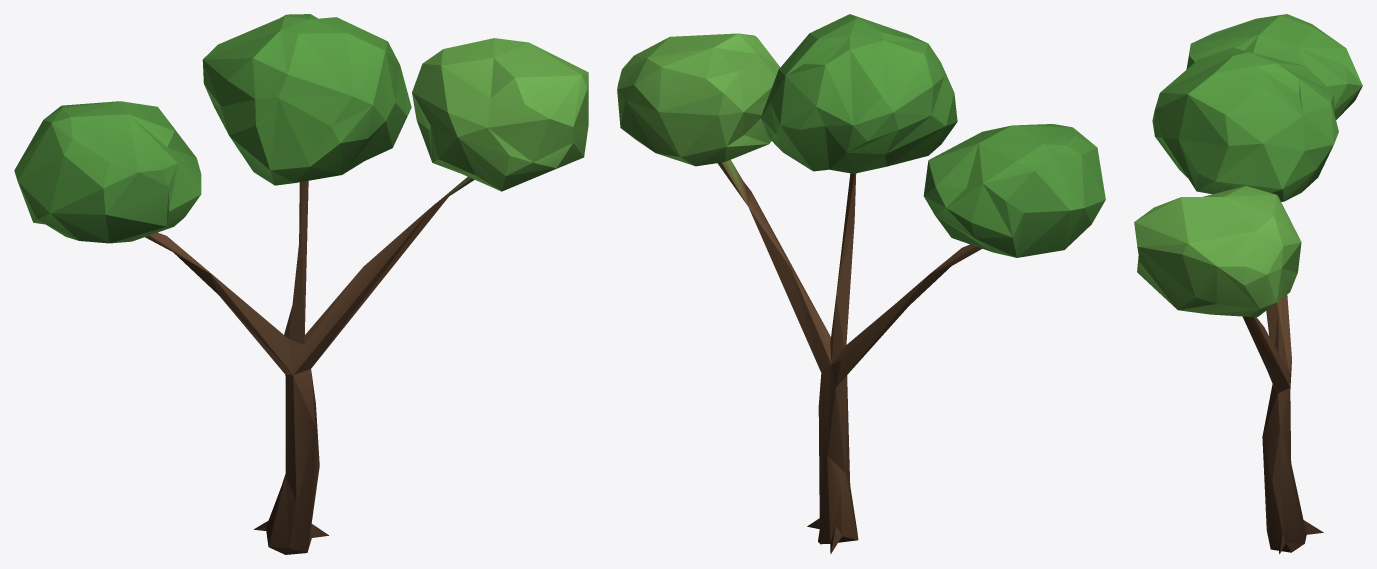
File: broadleaf_young_sparse_far.glb
3 views of the same model, side by side, from view 1: azimuth 30°, elevation 25°; view 2: azimuth 150°, elevation 25°; view 3: azimuth 270°, elevation 25° (orthographic). The views are drawn at different scales.
Visible parts, largest first — view 1: broadleaf_young_sparse_LOD3; view 2: broadleaf_young_sparse_LOD3; view 3: broadleaf_young_sparse_LOD3.
Part boxes in pixels (left/top/right/bottom): broadleaf_young_sparse_LOD3: left=14, top=14, right=588, bottom=554; broadleaf_young_sparse_LOD3: left=617, top=14, right=1105, bottom=554; broadleaf_young_sparse_LOD3: left=1134, top=14, right=1362, bottom=554.
Size of the model in its own units: 3.35 by 3.25 by 1.4.
